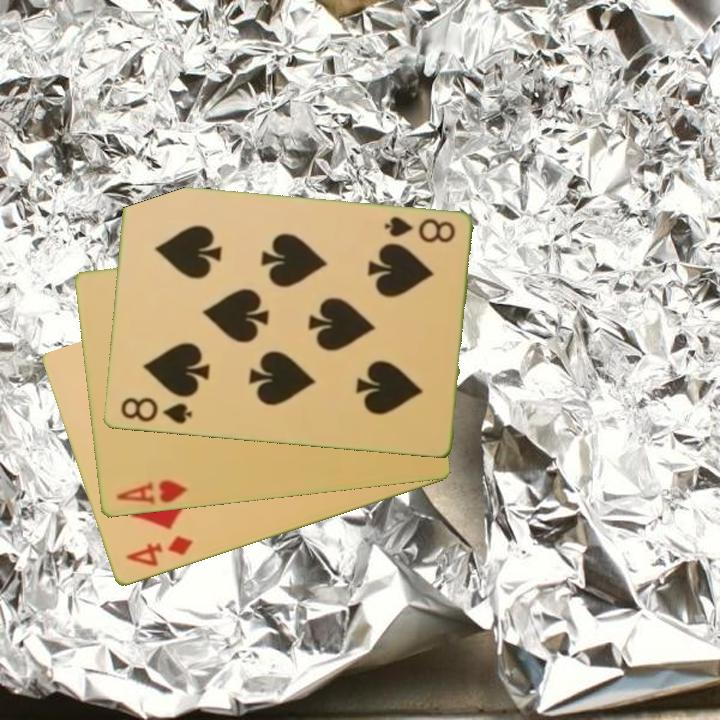4d: (122, 532, 196, 570)
8s: (117, 394, 195, 427), (380, 213, 458, 246)
Ah: (113, 477, 190, 508)
